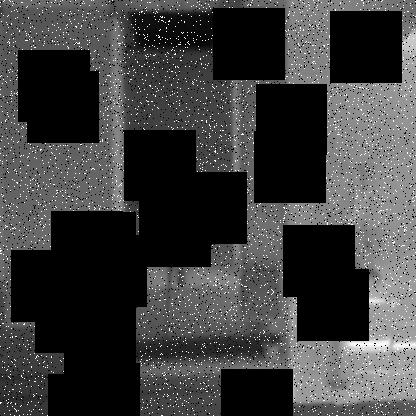Porte: (108, 14, 248, 282)
